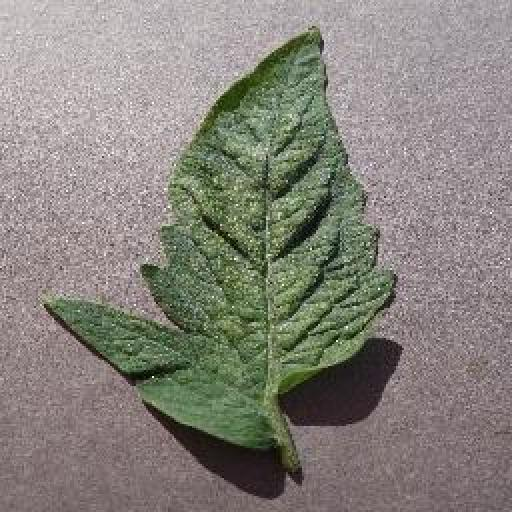disease_tomato: (45, 24, 399, 451)
